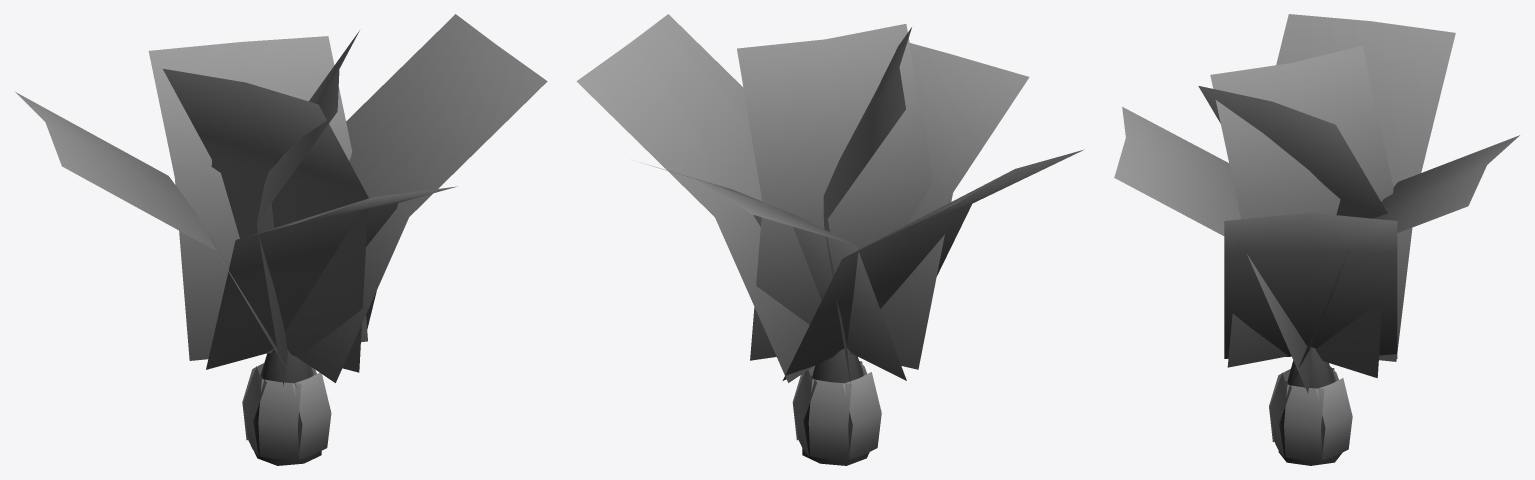
The model's file is RootGrown_MESH_01.fbx.
3 views of the same model, side by side, from view 1: azimuth 30°, elevation 25°; view 2: azimuth 150°, elevation 25°; view 3: azimuth 270°, elevation 25° (orthographic). The views are drawn at different scales.
Parts seen in each view (by area): view 1: RootGrown_MESH_01; view 2: RootGrown_MESH_01; view 3: RootGrown_MESH_01.
Part boxes in pixels (<box>): RootGrown_MESH_01: <box>15,14,547,465</box>; RootGrown_MESH_01: <box>576,14,1084,465</box>; RootGrown_MESH_01: <box>1114,14,1519,465</box>.
Size of the model in its own units: 113 by 93.67 by 93.88.
